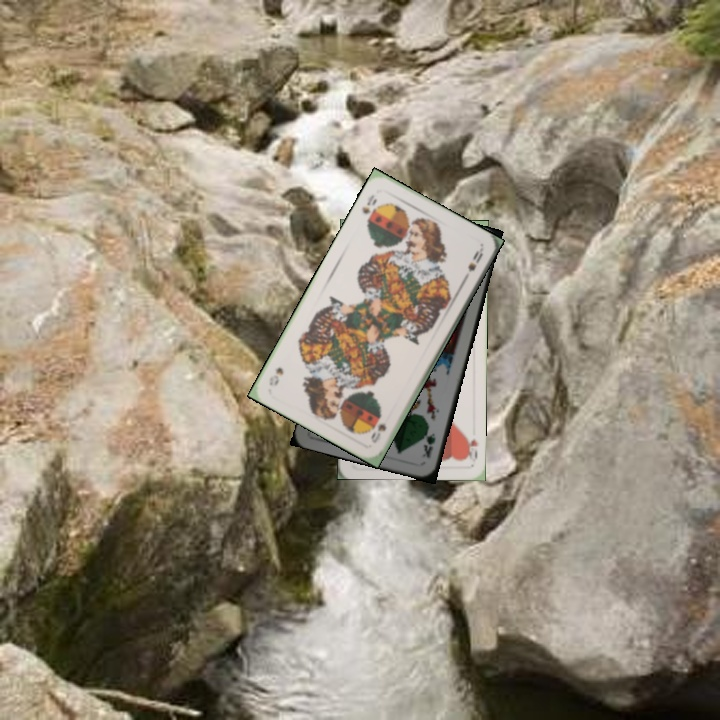GK: (418, 423, 438, 460)
HO: (461, 430, 480, 464)
SO: (366, 419, 389, 446), (358, 191, 380, 217)
